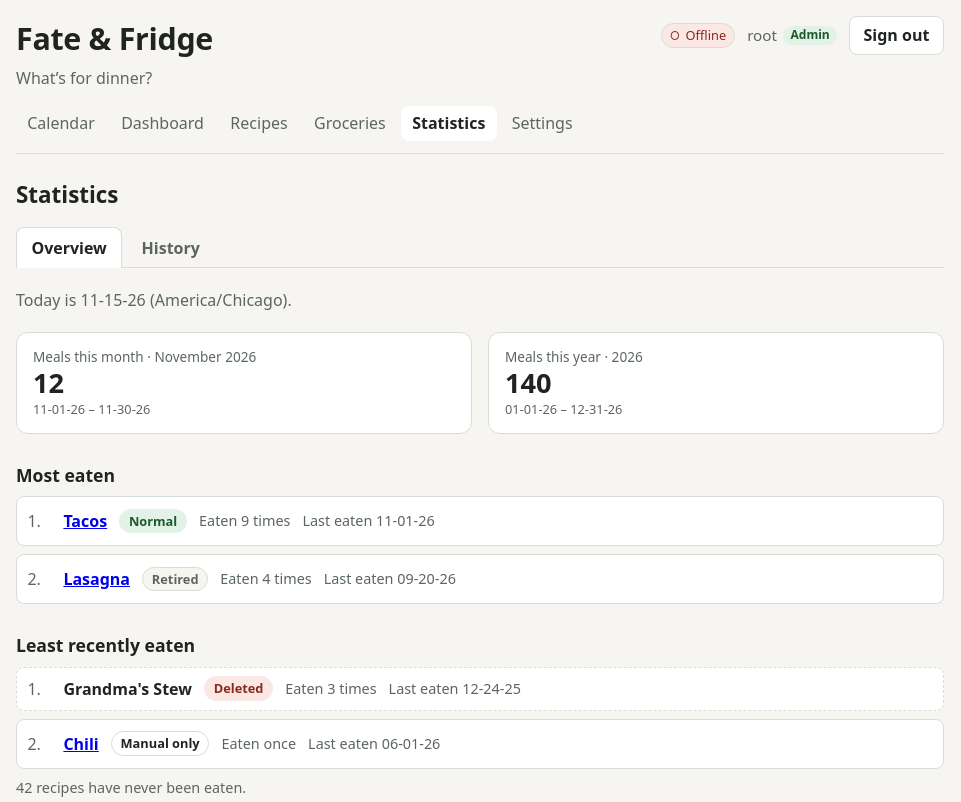
statistics tabs › defaults to the Overview tab and shows the History tab with calendar.view
This screenshot has width=961, height=802.
expect the text "Eaten 9 times" is shown: met, box [199, 510, 290, 532]
Click the tab "History": (171, 248) [126, 227, 215, 268]
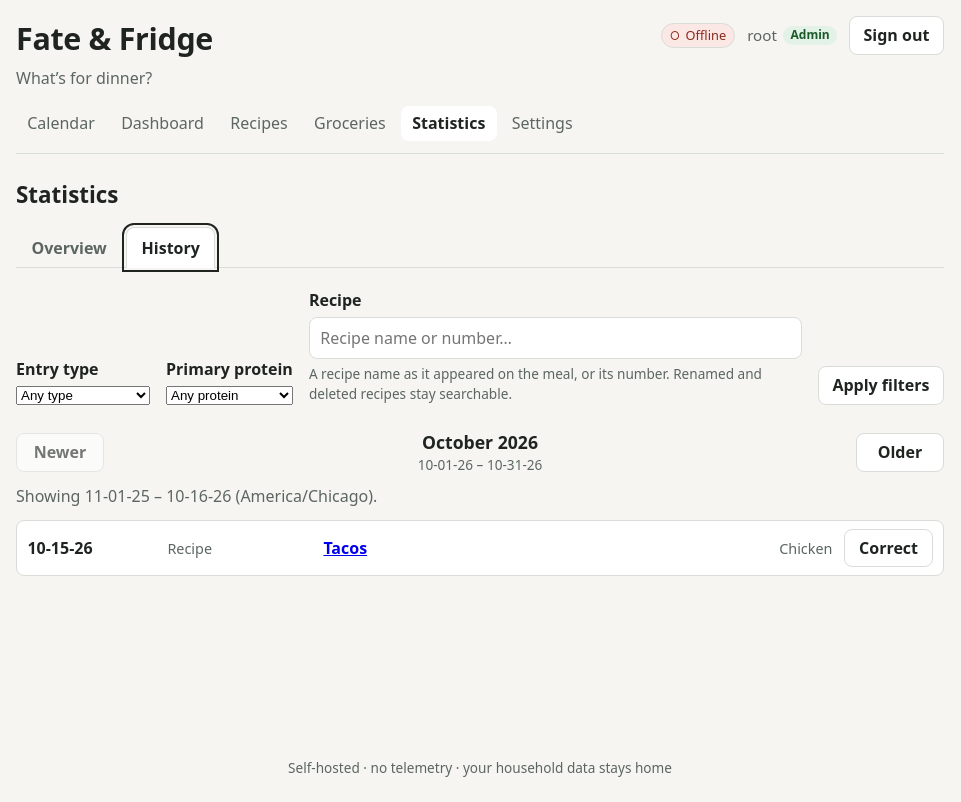
expect the element "October 2026" is shown: met, box [16, 429, 944, 576]
expect the text "Eaten 9 times" is gone: met
